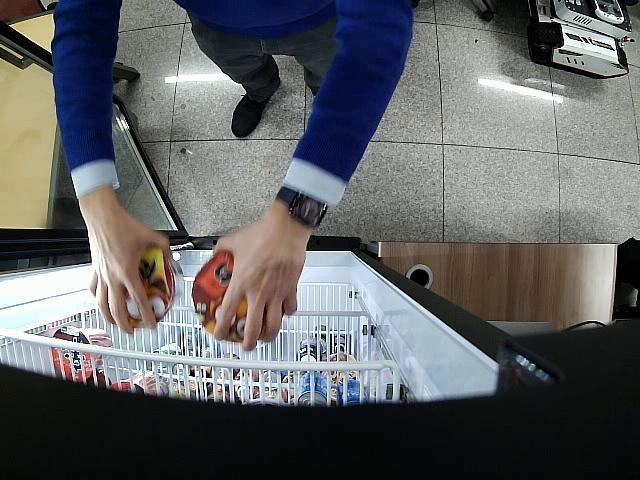05_nuguri_L: (192, 250, 264, 342), (126, 247, 184, 327)
